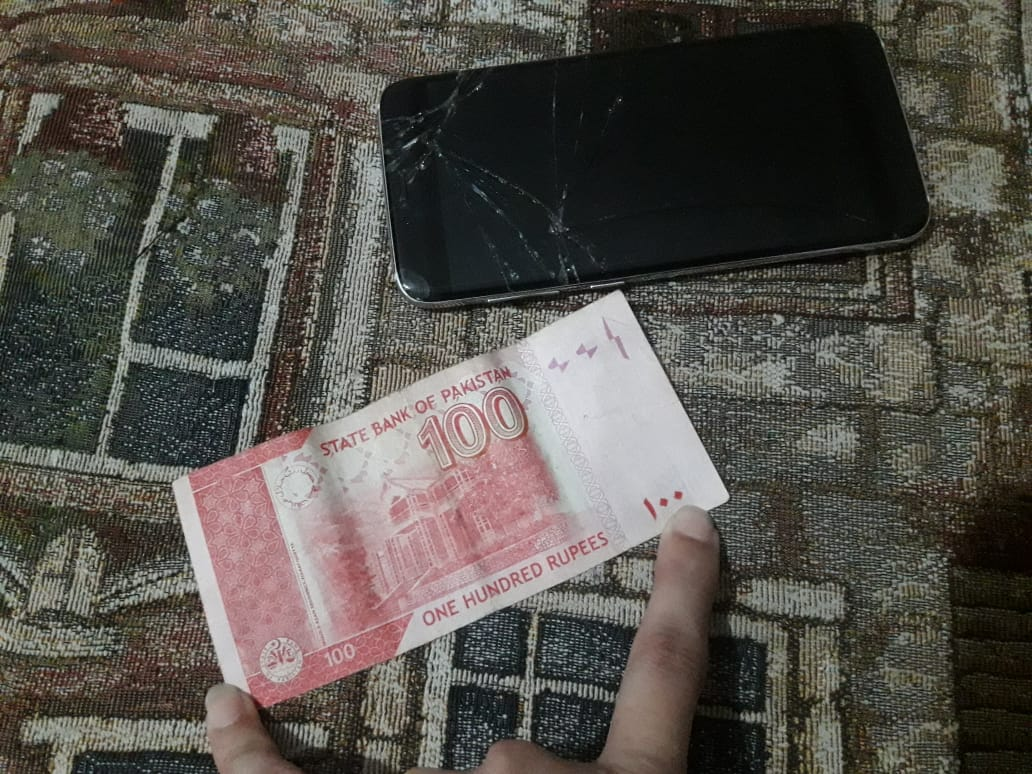100 rupee: (169, 288, 735, 711)
